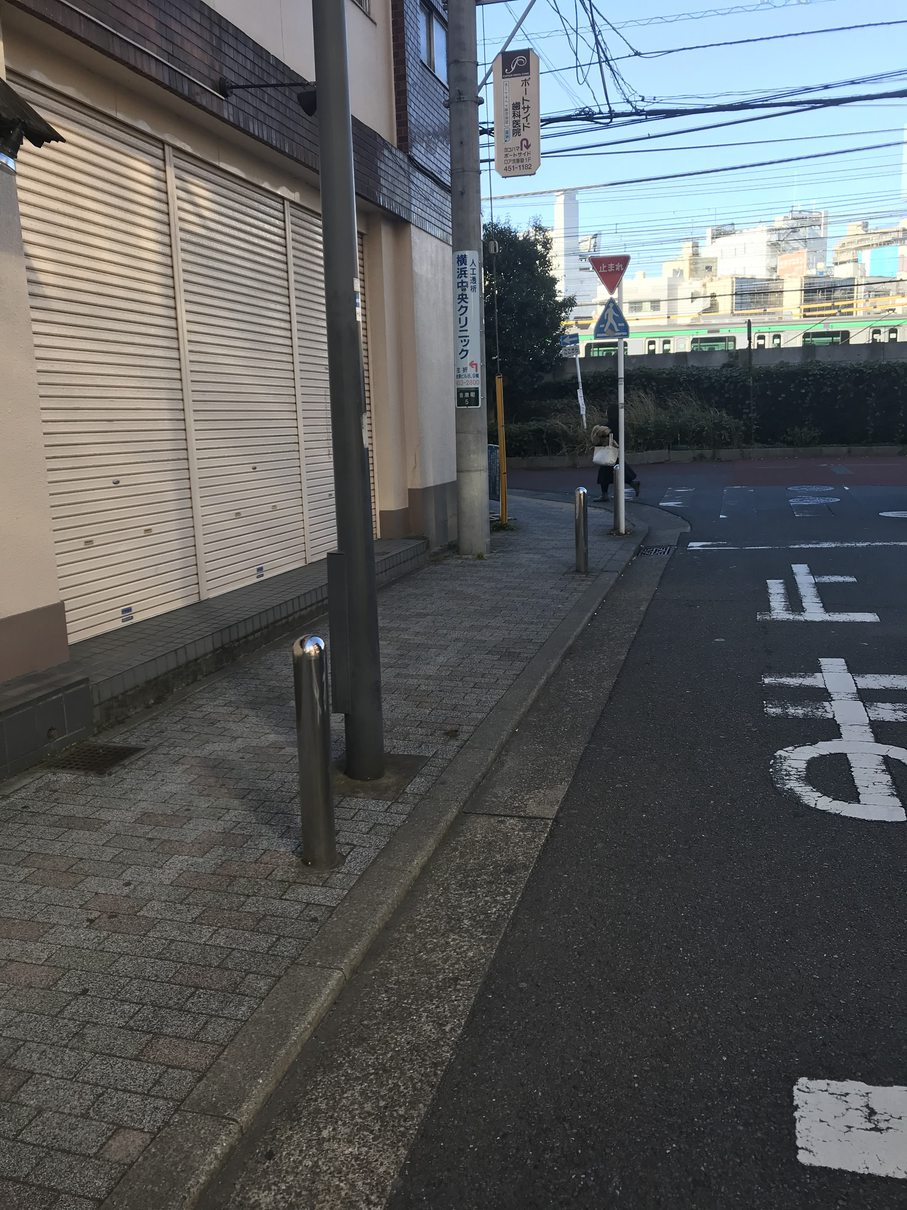stop_sign: (588, 252, 632, 294)
